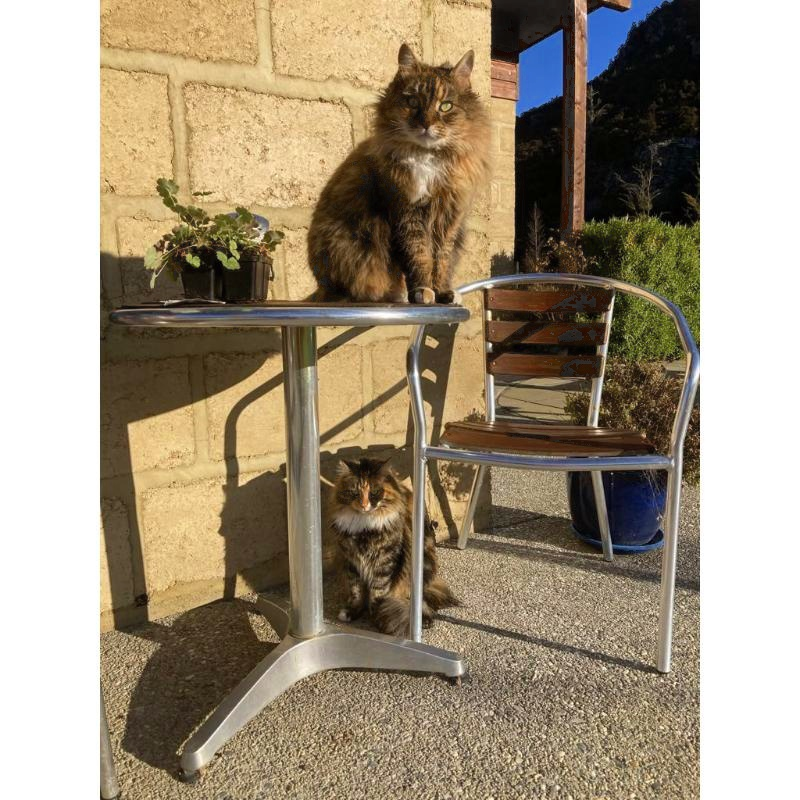red: (330, 453, 464, 635)
yellow: (304, 40, 494, 308)
